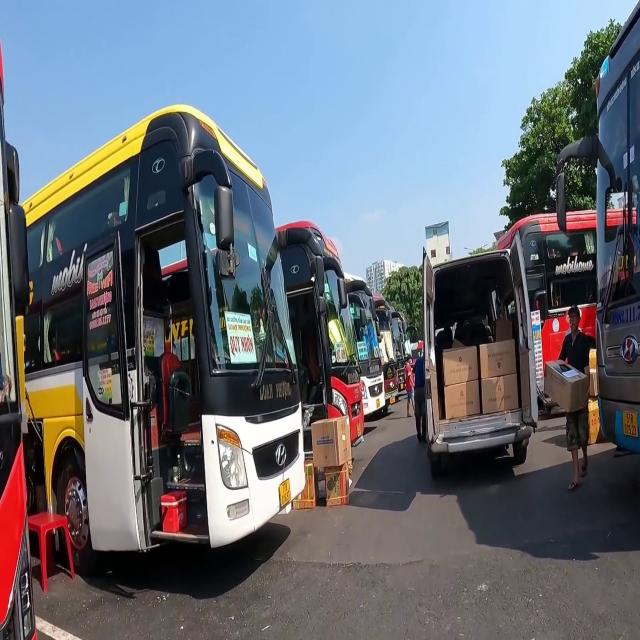bien_vang: (622, 410, 639, 437), (278, 479, 292, 506)
